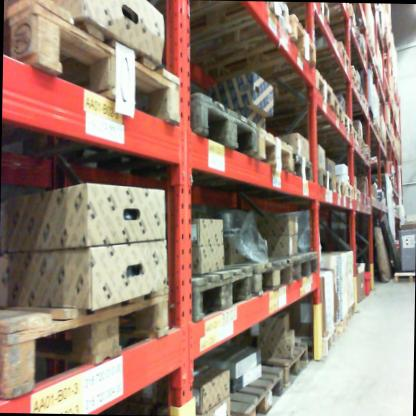pallet: (5, 0, 188, 138), (0, 276, 173, 399), (191, 11, 323, 72), (200, 335, 312, 393), (171, 246, 251, 324), (185, 360, 286, 416), (181, 89, 260, 160), (178, 1, 290, 36), (249, 70, 338, 107), (239, 249, 290, 305), (295, 89, 349, 134), (256, 121, 298, 174), (301, 33, 352, 76), (284, 240, 324, 289), (284, 4, 333, 32), (290, 146, 317, 192), (302, 323, 339, 356), (325, 61, 358, 91), (312, 162, 336, 193), (331, 306, 350, 341), (390, 261, 414, 287), (347, 92, 371, 113), (339, 106, 354, 137), (331, 171, 344, 202), (341, 173, 353, 206), (345, 297, 356, 324), (358, 132, 369, 159), (353, 180, 363, 204), (364, 140, 374, 164), (352, 126, 361, 152)
small_load_carrier: (360, 266, 375, 300)
